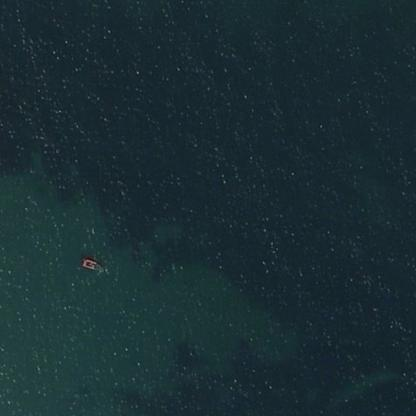ship: (76, 252, 106, 274)
